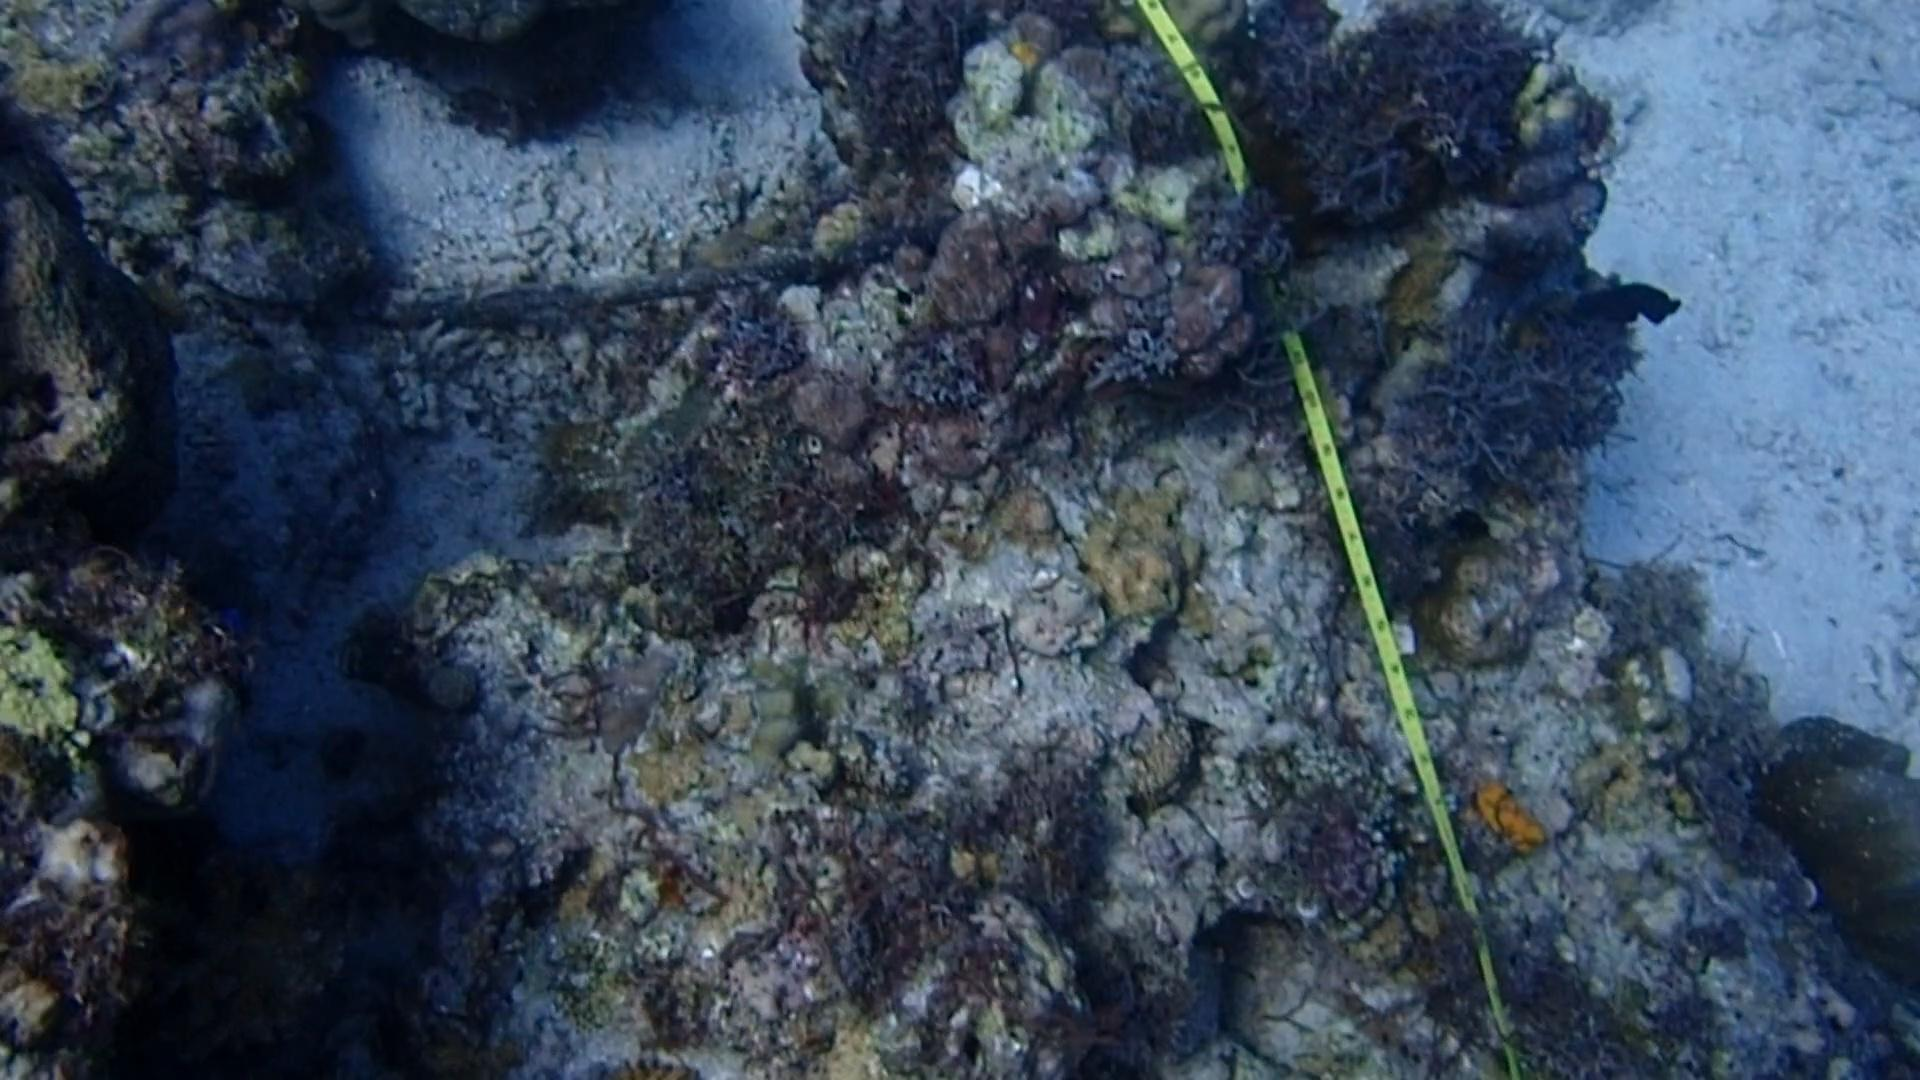Dark Fish: (1565, 268, 1693, 340)
